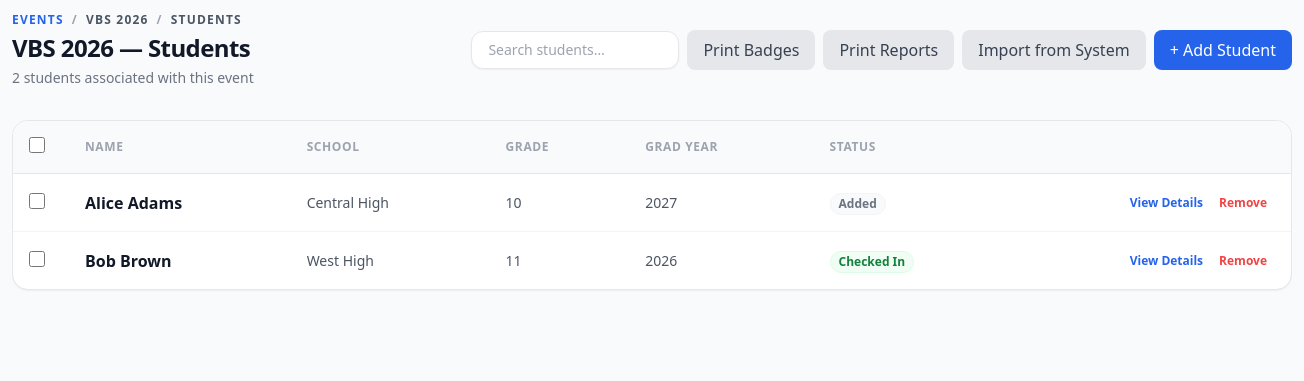
EventStudentsPage › supports selecting visible event students for targeted printing
Expected: the text "Alice Adams" is shown, [61,174,283,232]
Click the checkbox named "Select Alice Adams": click(37, 200) [29,192,45,208]
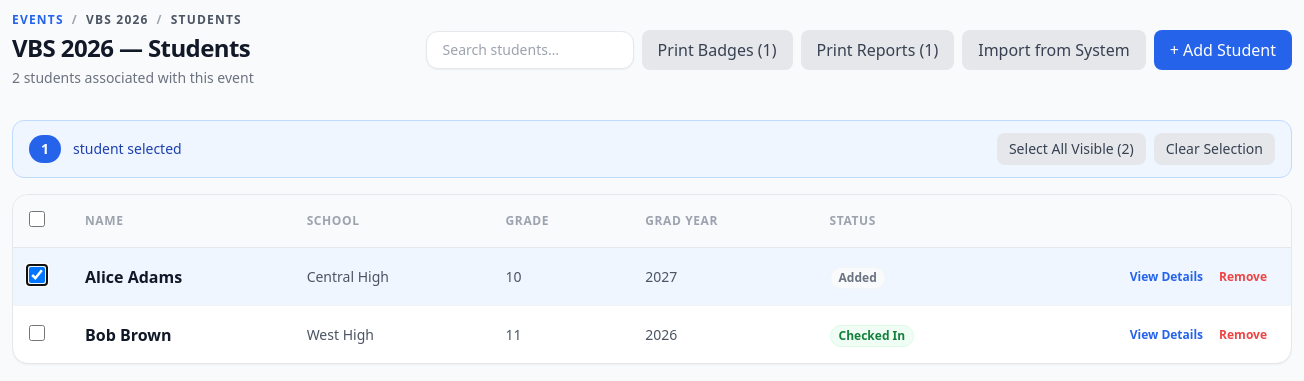
Expected: the text "student selected" is shown, [73,139,182,159]
Expected: the button "Print Badges (1)" is shown, [642,30,792,70]
Expected: the button "Print Reports (1)" is shown, [800,30,954,70]
